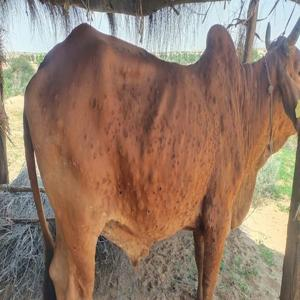lumpy skin diesease: (21, 13, 299, 299)
